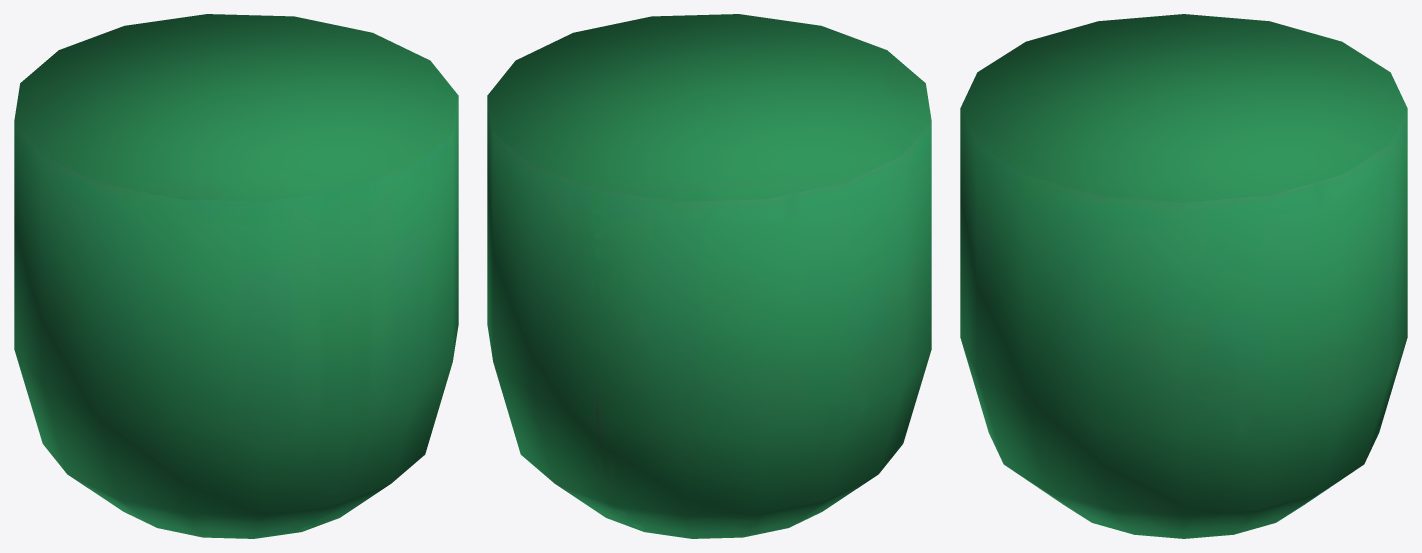
The model's file is Part - Kit Extras dope-CSEcU5ko.glb.
3 renders of one model, left to right at view 1: azimuth 30°, elevation 25°; view 2: azimuth 150°, elevation 25°; view 3: azimuth 270°, elevation 25°, orthographic.
Visible parts, largest first — view 1: Circle.019; view 2: Circle.019; view 3: Circle.019.
Part boxes in pixels (x1=…): Circle.019: x1=14, y1=14, x2=458, y2=538; Circle.019: x1=487, y1=14, x2=931, y2=538; Circle.019: x1=960, y1=14, x2=1407, y2=538.
Size of the model in its own units: 0.5441 by 0.5384 by 0.5447.
1 material, 1 textured.
